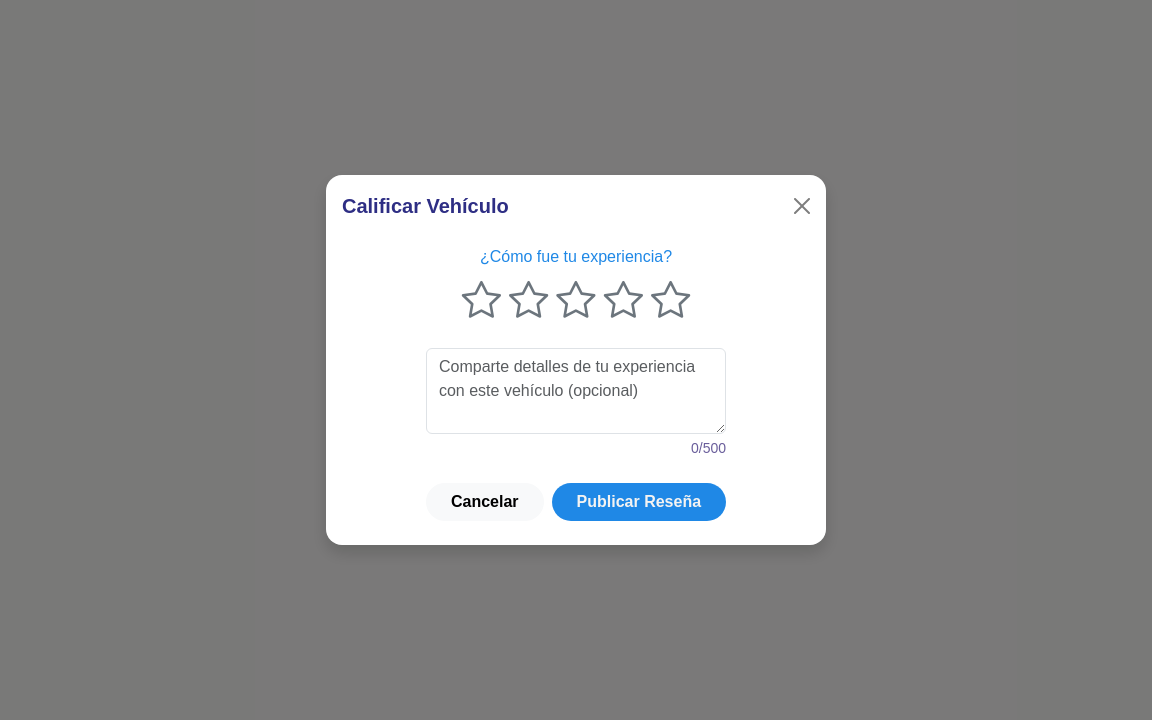
Test case: ReviewModalComponent › debe mostrar mensaje de error si se envía sin seleccionar estrellas
The width and height of the screenshot is (1152, 720).
Click the button "Publicar Reseña" at (639, 502), box [552,483,726,521]
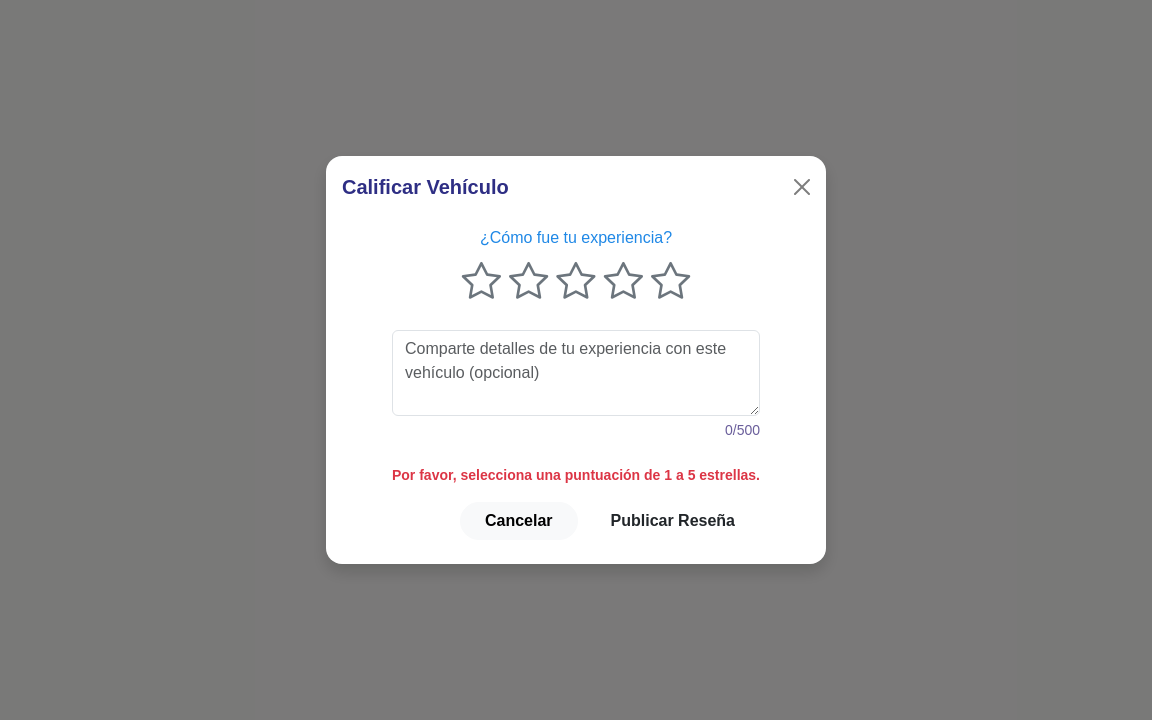
Now the text "Por favor, selecciona una puntuación de 1 a 5 estrellas." is shown, box [392,465,760,486]
